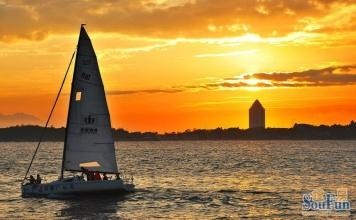fanchuan: (19, 24, 143, 196)
